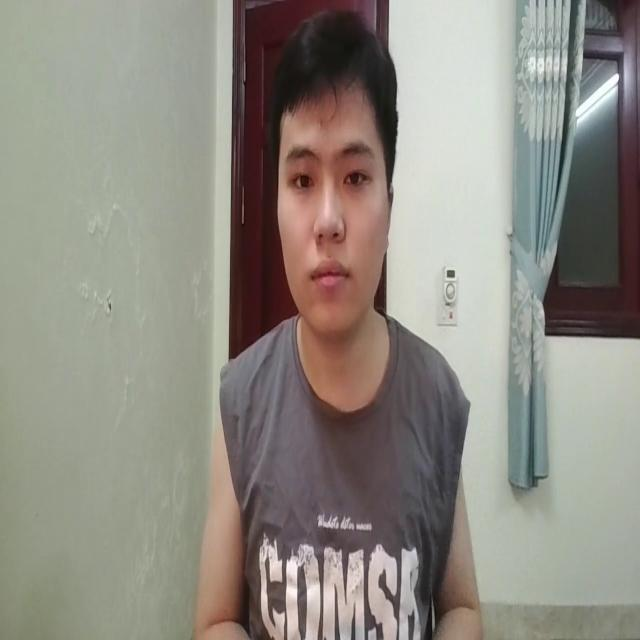student: (178, 10, 481, 640)
